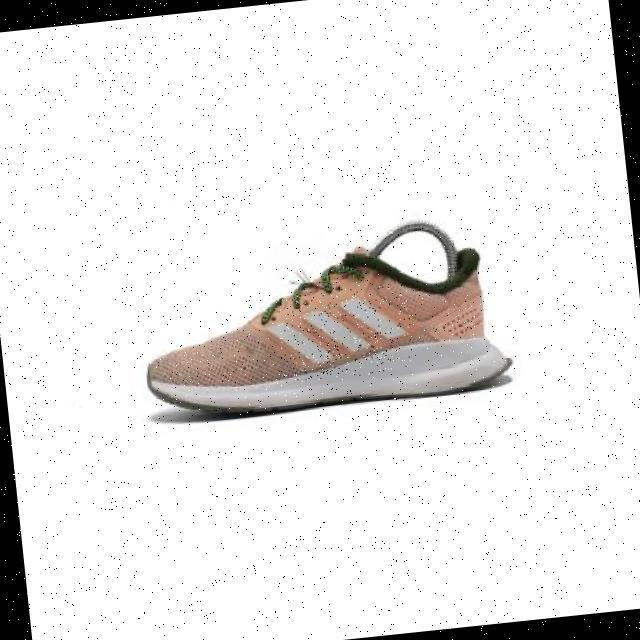Adidas: (271, 282, 416, 384)
